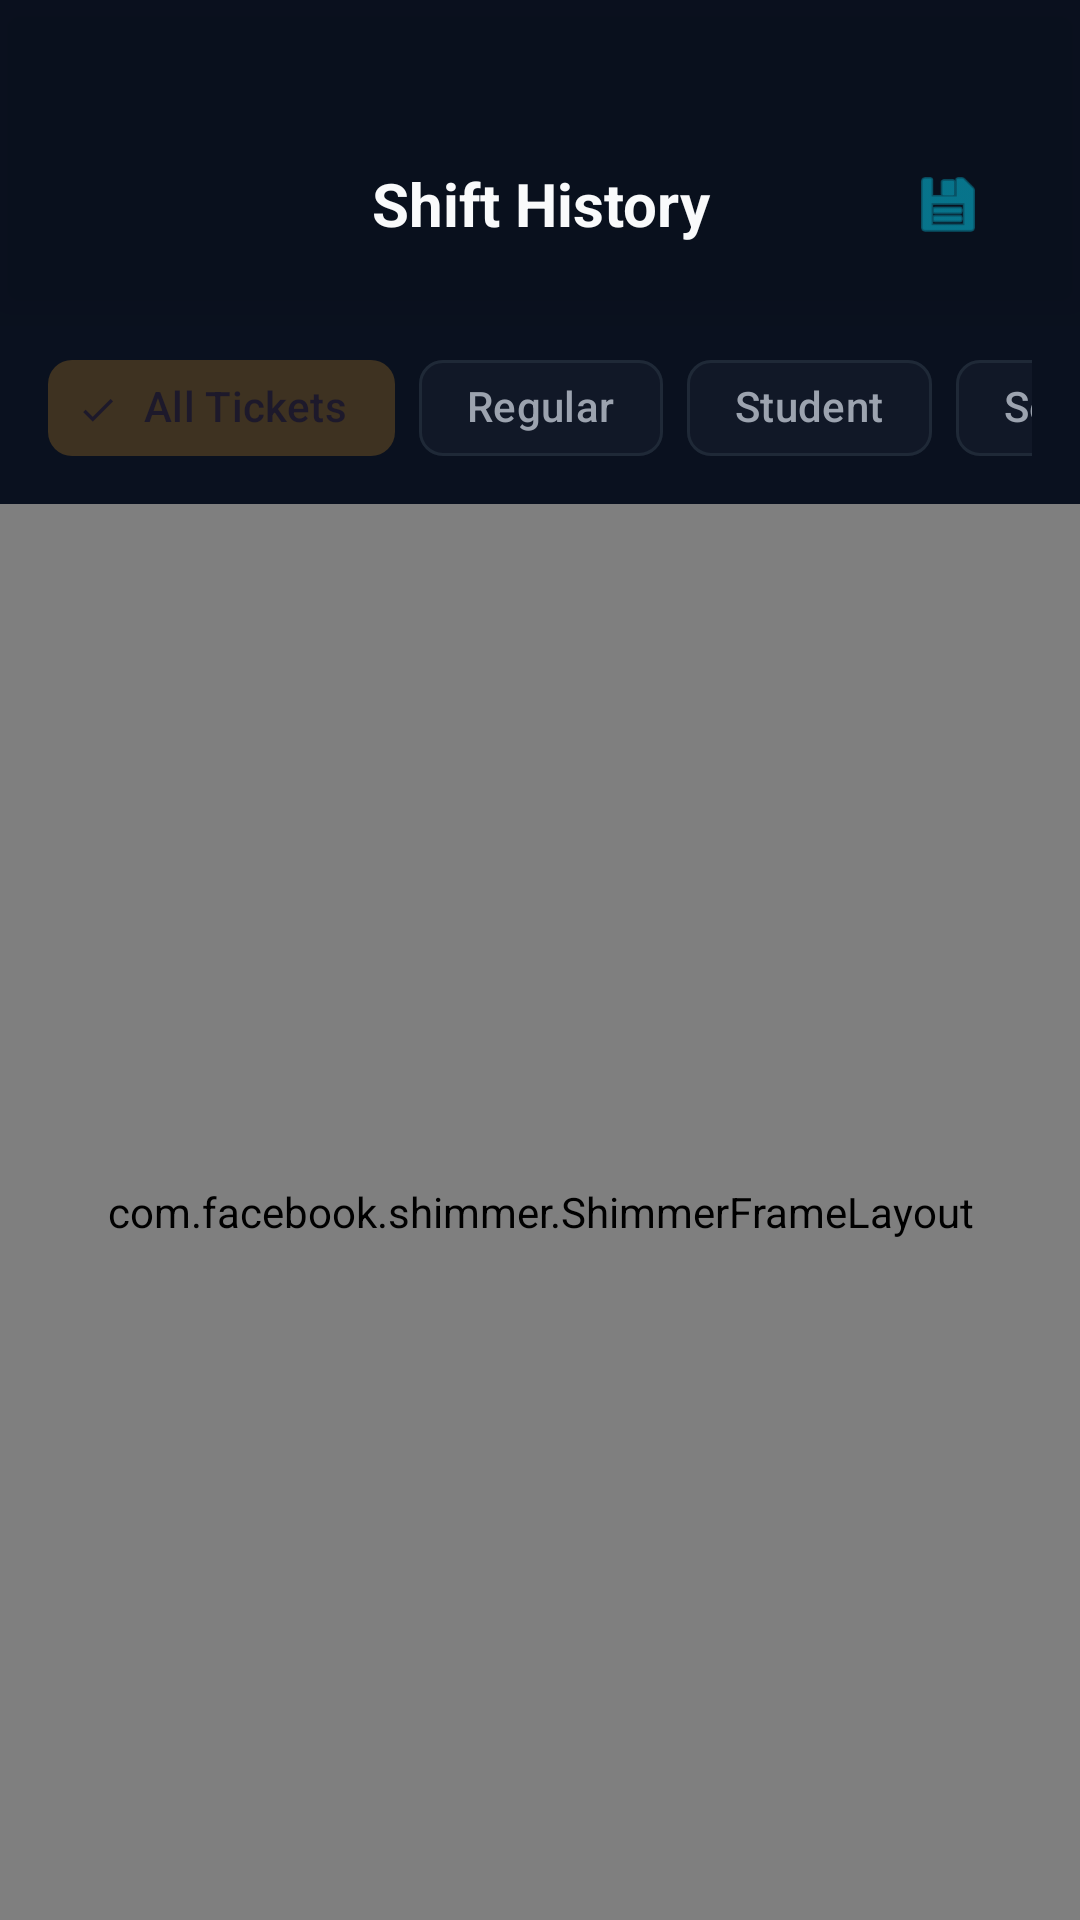

Screen size 1080x1920. Icon name, then its box in pixels as (x1, y1, x2, y2):
save: (921, 177, 975, 232)
